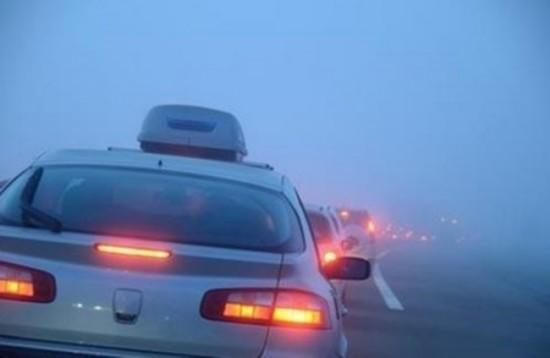car: (1, 103, 373, 358), (166, 198, 350, 334), (313, 205, 376, 265)
